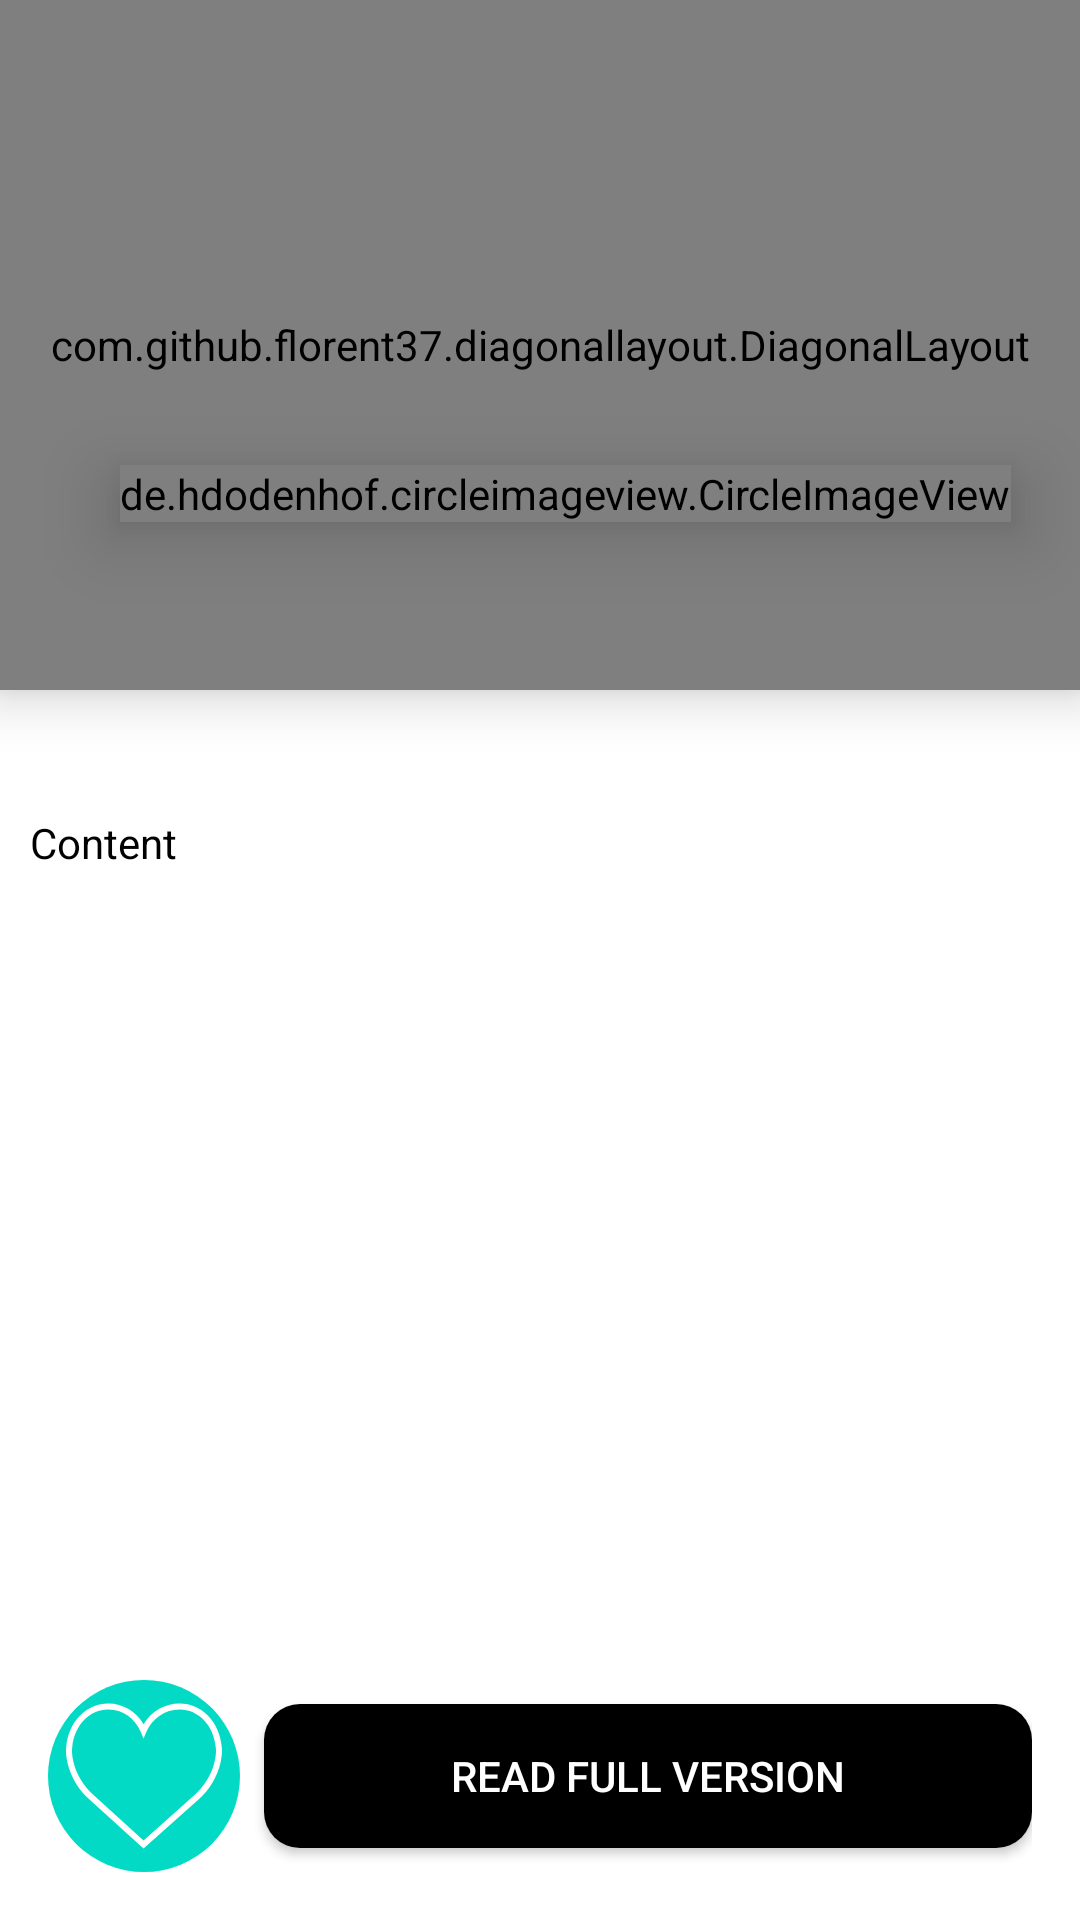

Icon click points for this 1080px×1920px phone screenshot, format (x,y):
like empty: (144,1776)
